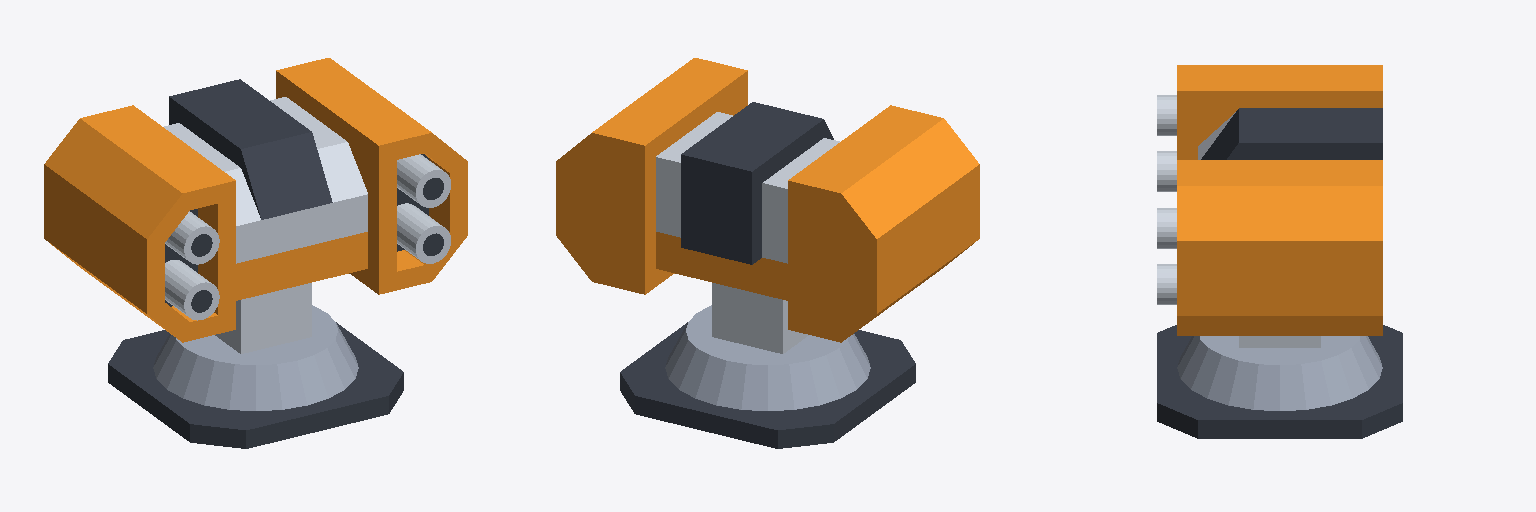
The model's file is turret_01.obj.
3 renders of one model, left to right at view 1: azimuth 30°, elevation 25°; view 2: azimuth 150°, elevation 25°; view 3: azimuth 270°, elevation 25°, orthographic.
Parts seen in each view (by area): view 1: turret_head_turret_double.001, turret_body_turret_double; view 2: turret_head_turret_double.001, turret_body_turret_double; view 3: turret_head_turret_double.001, turret_body_turret_double.
Boxes of the visible parts, x1,y1,x2,y2 form: turret_head_turret_double.001: [44, 58, 467, 342]; turret_body_turret_double: [108, 283, 403, 448]; turret_head_turret_double.001: [556, 58, 979, 342]; turret_body_turret_double: [620, 283, 915, 448]; turret_head_turret_double.001: [1157, 65, 1382, 335]; turret_body_turret_double: [1157, 325, 1402, 438].
Bounding box in the file's own units: 0.9 × 0.7 × 0.6.